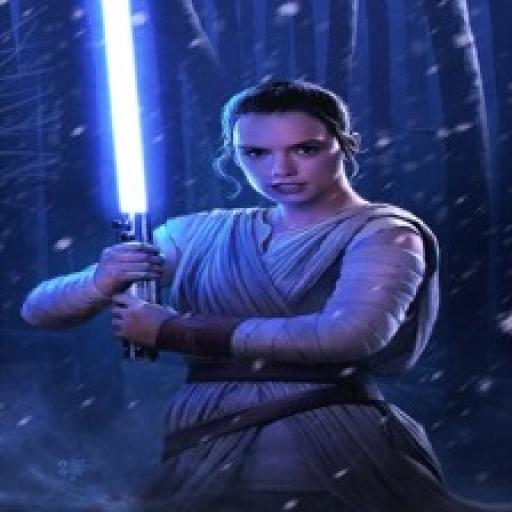human: (15, 74, 512, 512)
lightsaber: (96, 0, 169, 361)
